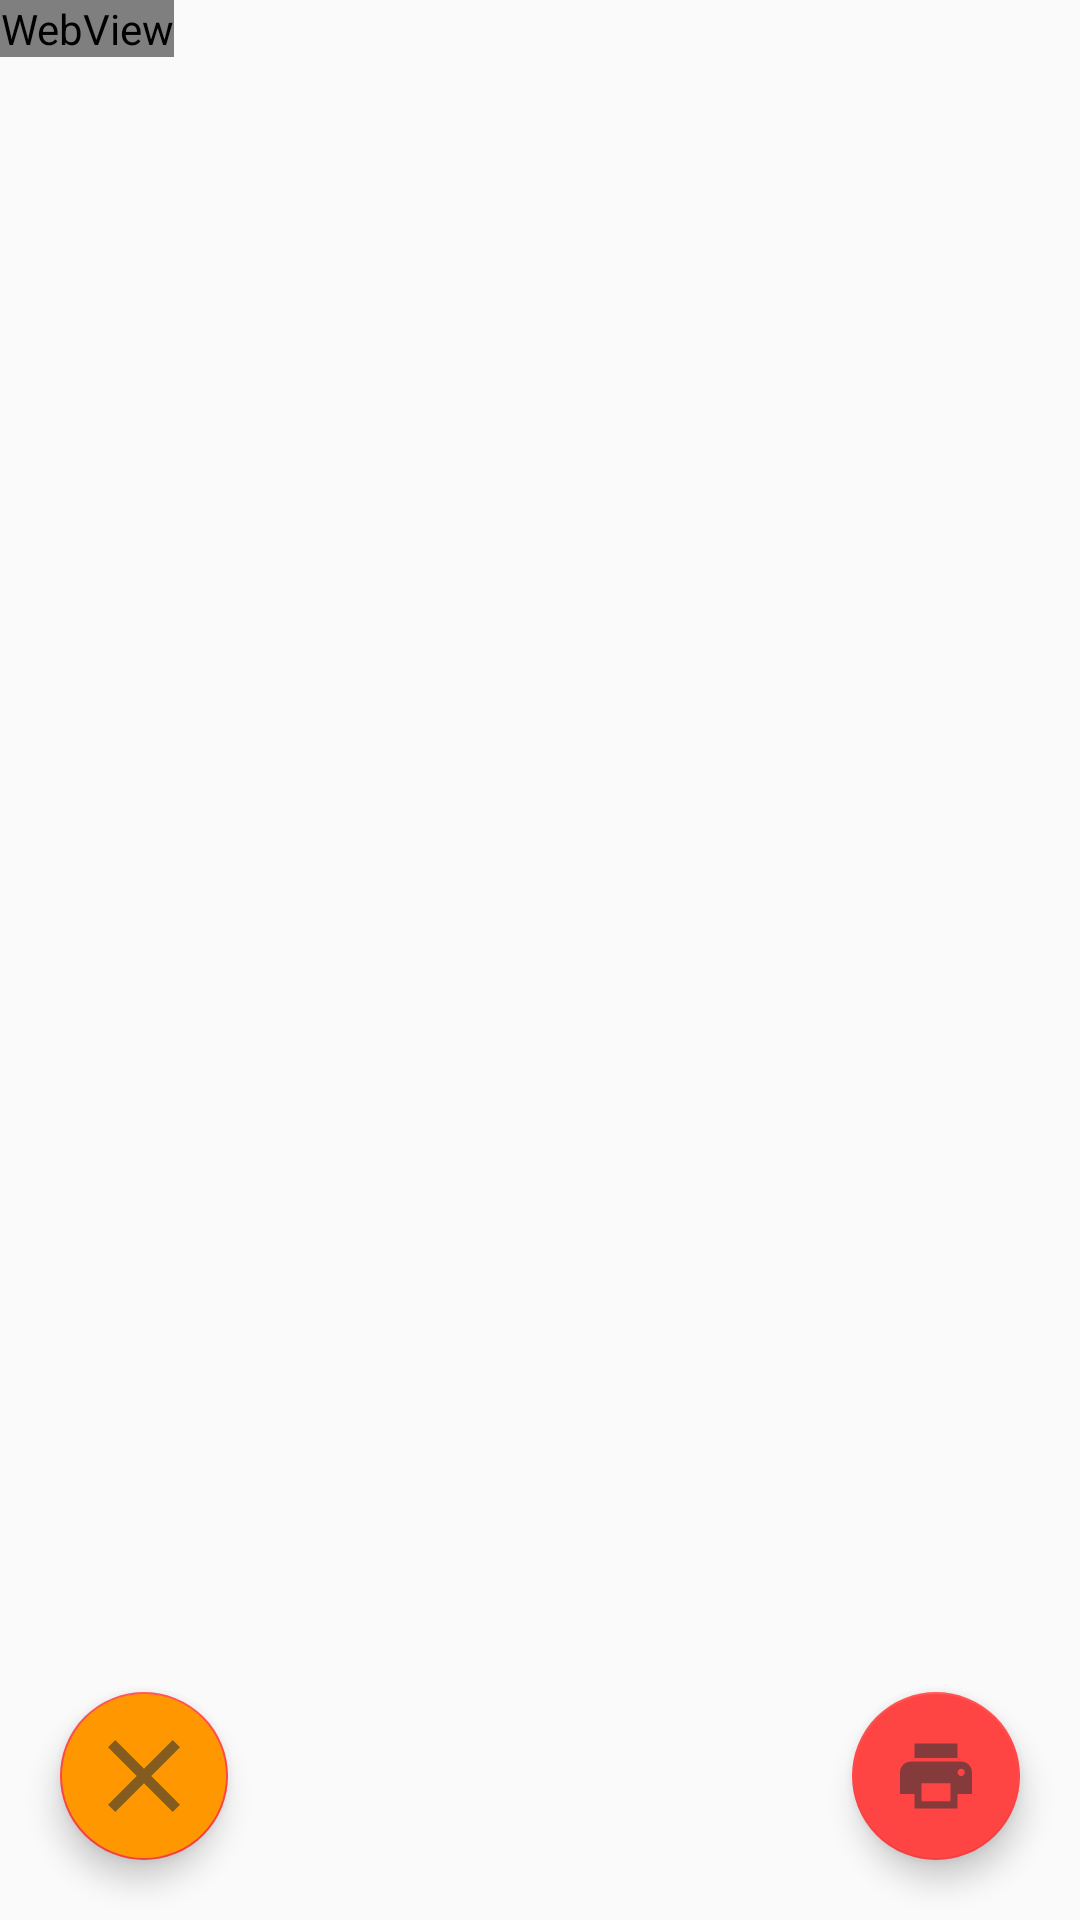

Locate icon controls on the screen. Image size 1080x1920, boxes as (x1, y1, x2, y2).
close: (60, 1692, 228, 1860)
